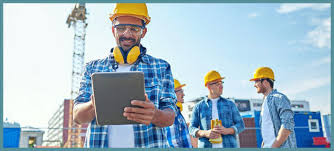helmet: (113, 1, 154, 20), (252, 65, 274, 80), (204, 71, 224, 83)
